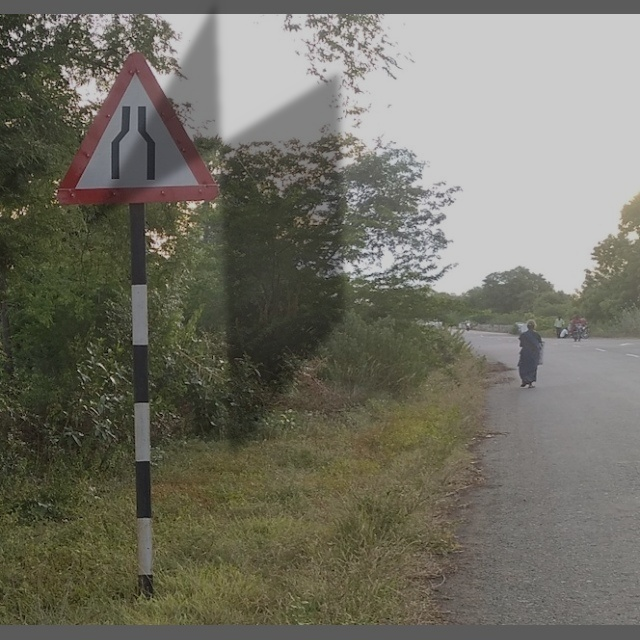Narrow_Road_Ahead: (57, 48, 224, 203)
